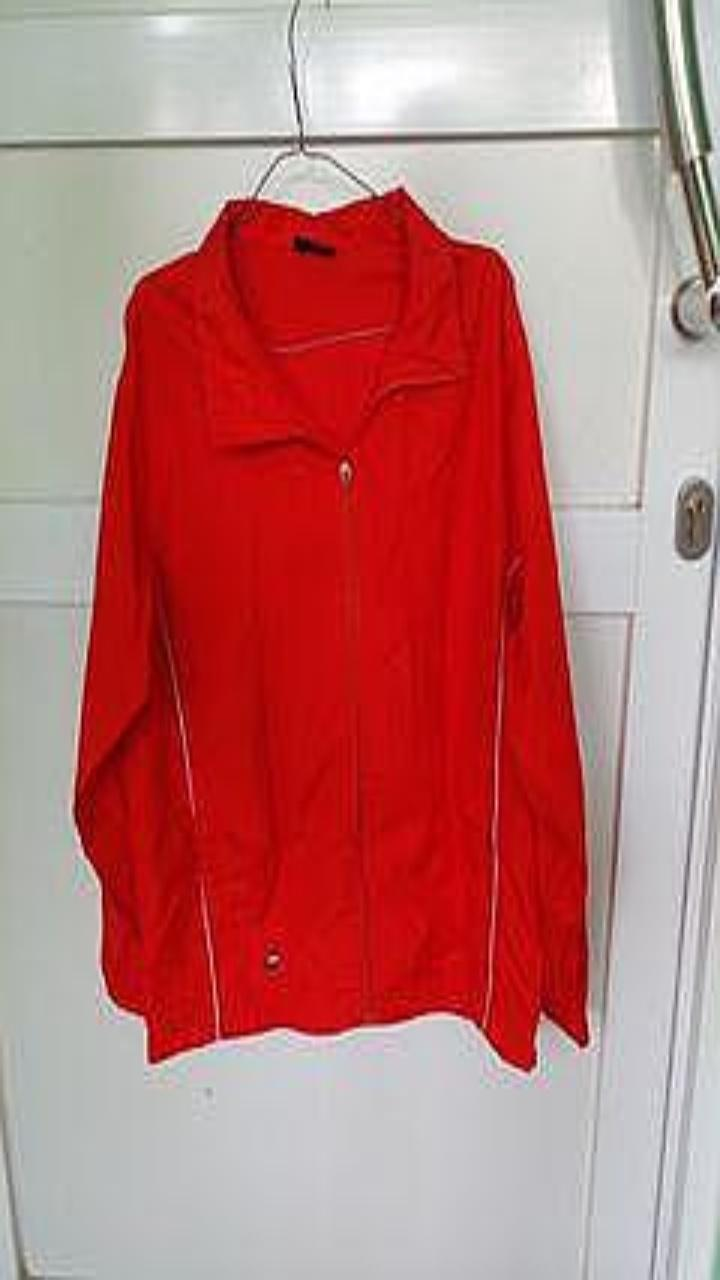Sports_Jacket: (72, 186, 588, 1070)
